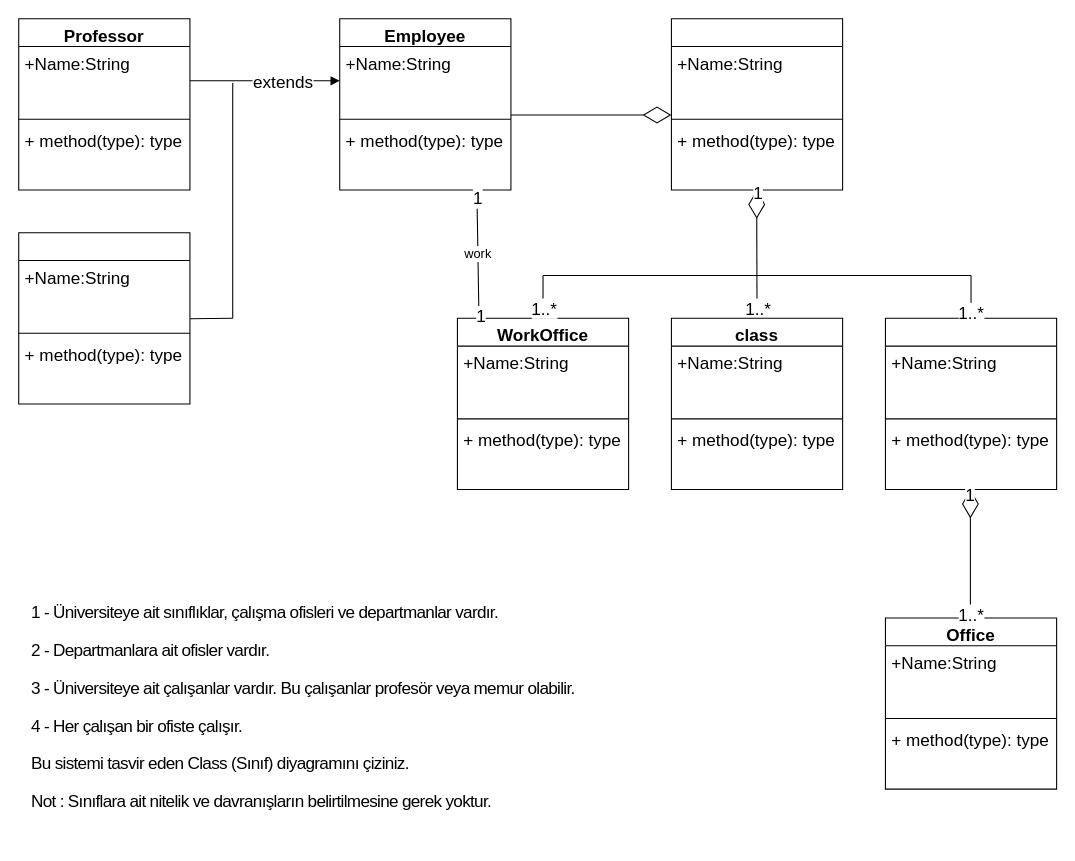
The diagram is 1075 pixels wide and 861 high, and some of its shapes have lost their labels. The shapes that lost their labels are listed below. From the top down, each one's box as (x1, y1, x2, y2) in pixels, then its label:
(670, 18, 843, 190): University
(18, 232, 190, 404): officer
(884, 317, 1057, 490): Department
